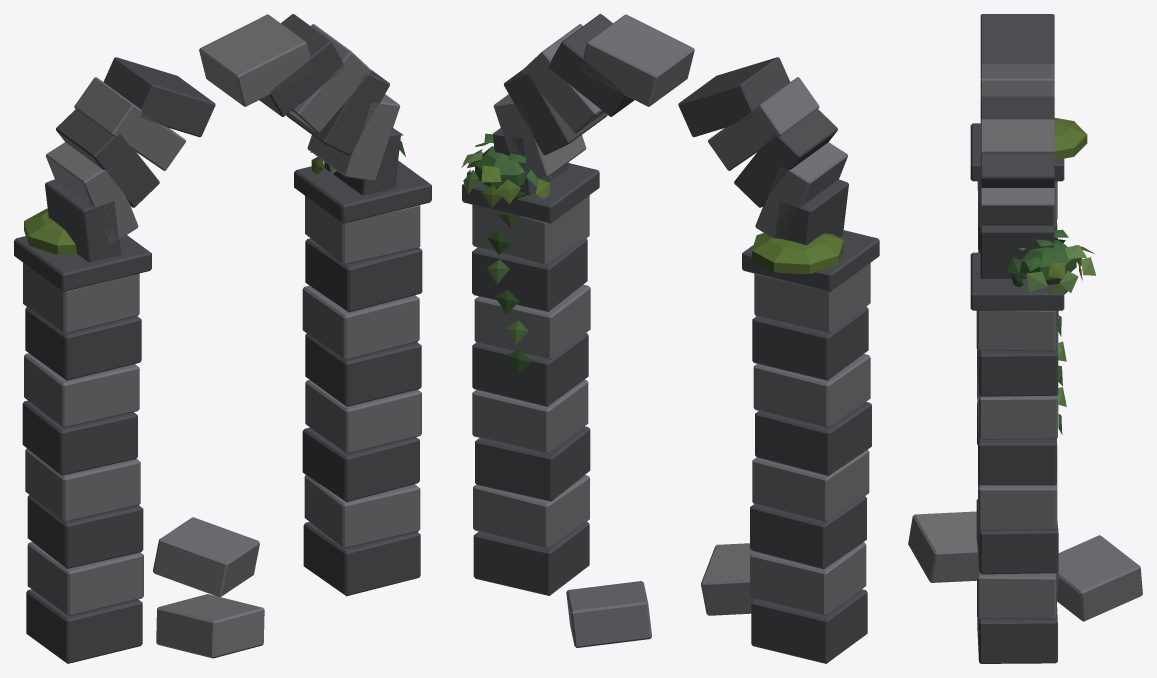
The model's file is arch.glb.
3 renders of one model, left to right at view 1: azimuth 30°, elevation 25°; view 2: azimuth 150°, elevation 25°; view 3: azimuth 270°, elevation 25°, orthographic. The views are drawn at different scales.
Visible parts, largest first — view 1: Arch; view 2: Arch; view 3: Arch.
Part boxes in pixels (x1=…): Arch: x1=14, y1=14, x2=431, y2=663; Arch: x1=461, y1=14, x2=879, y2=663; Arch: x1=908, y1=14, x2=1142, y2=663.
Size of the model in its own units: 1.66 by 2.43 by 0.9521.
